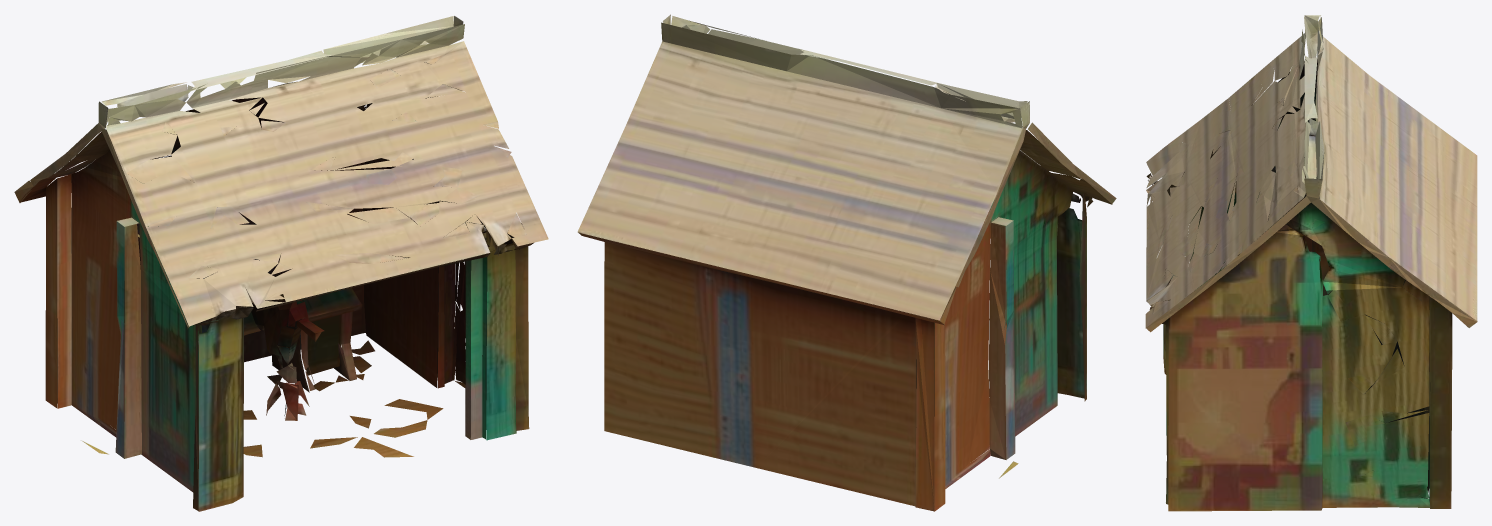
Rendered from stable.glb.
The picture shows the model from 3 angles, left to right: view 1: azimuth 30°, elevation 25°; view 2: azimuth 150°, elevation 25°; view 3: azimuth 270°, elevation 25°; orthographic projection. The views are drawn at different scales.
Visible parts, largest first — view 1: geometry_0; view 2: geometry_0; view 3: geometry_0.
Part boxes in pixels (x1=…): geometry_0: x1=14, y1=16, x2=548, y2=511; geometry_0: x1=577, y1=14, x2=1116, y2=511; geometry_0: x1=1145, y1=15, x2=1477, y2=511.
Size of the model in its own units: 0.9951 by 0.9362 by 0.8374.
1 material, 1 textured.
